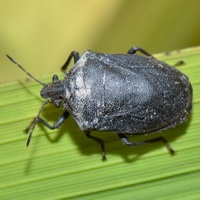insect: (6, 47, 192, 159), (39, 101, 66, 125)
